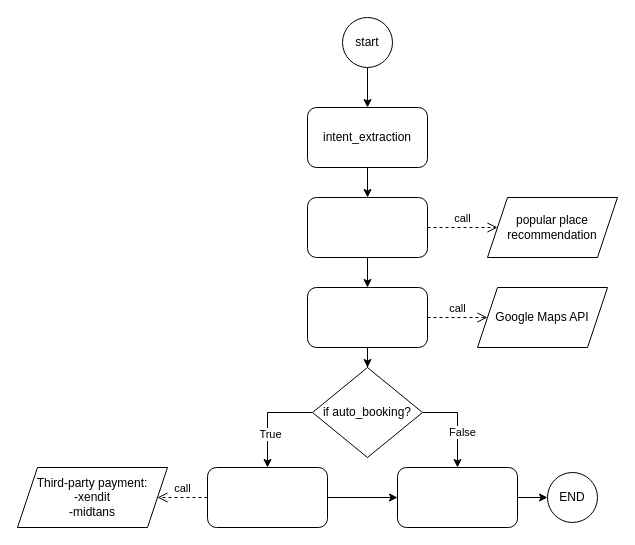
Image size: 635x545. Some labels were removed from this diagram. The centre of each missing label's shape, as x and y in pixels:
"booking (flight/hotel)" goes at point 367,317.
"final_response" goes at point 457,497.
"payment" goes at point 267,497.
"planning" goes at point 367,227.
